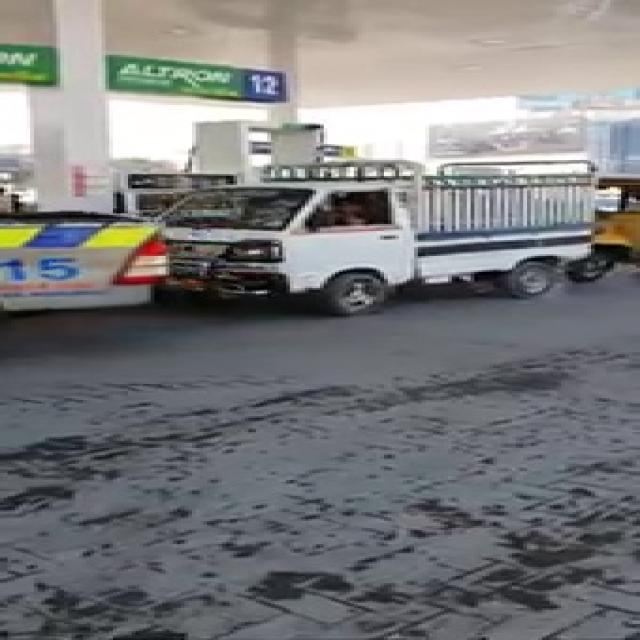police: (0, 184, 171, 352)
